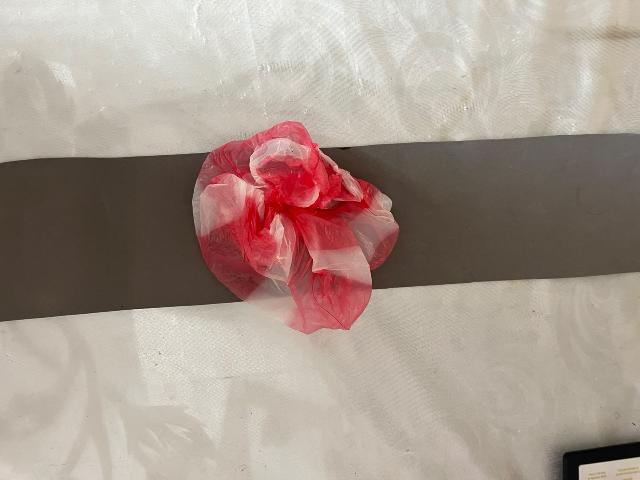LDPE: (144, 118, 464, 366)
